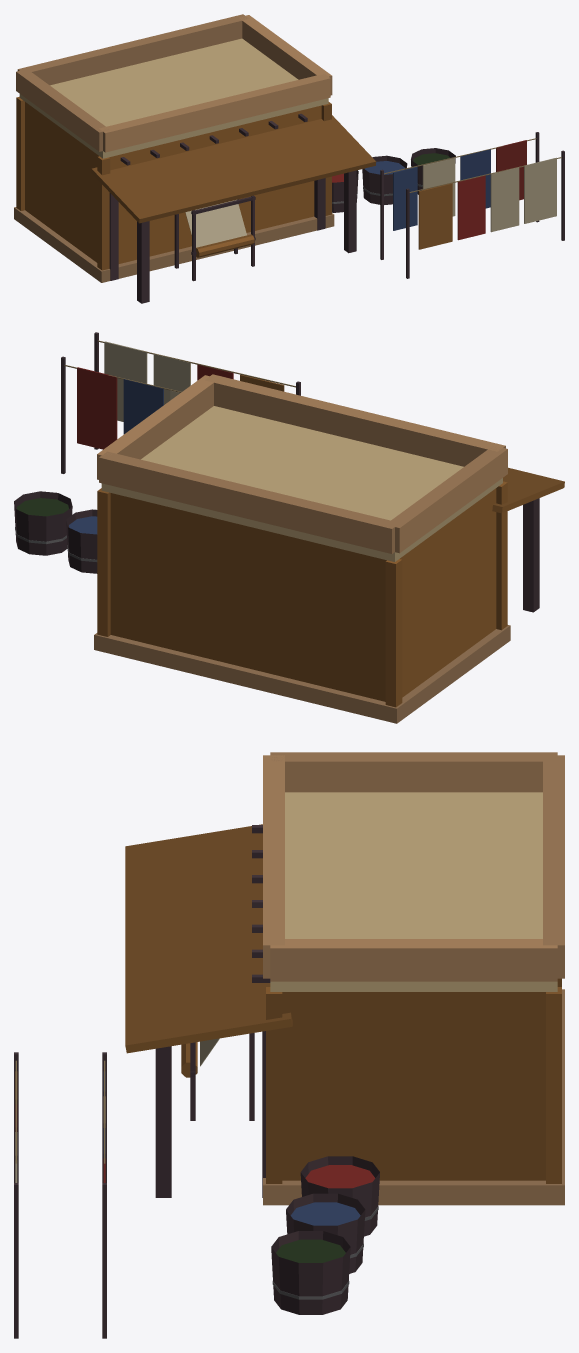
The model's file is walk_hive_weaver.glb.
3 views of the same model, one above another, from view 1: azimuth 30°, elevation 25°; view 2: azimuth 150°, elevation 25°; view 3: azimuth 270°, elevation 25° (orthographic). The views are drawn at different scales.
Visible parts, largest first — view 1: walk_hive_weaver, walk_hive_weaver_roof; view 2: walk_hive_weaver, walk_hive_weaver_roof; view 3: walk_hive_weaver_roof, walk_hive_weaver.
Part boxes in pixels (x1,y1,x2,y2): walk_hive_weaver: (14,96,564,303); walk_hive_weaver_roof: (16,14,376,223); walk_hive_weaver: (14,332,539,723); walk_hive_weaver_roof: (97,374,564,561); walk_hive_weaver_roof: (125,752,564,1053); walk_hive_weaver: (14,825,564,1338).
Size of what is drawn, in the model's own units: 10.63 by 3.85 by 7.48.
2 materials, 2 textured.
